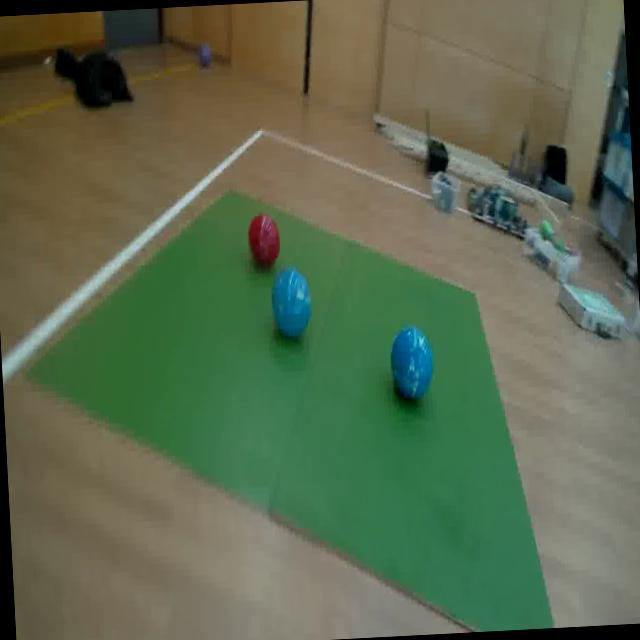blue_ball: (388, 321, 436, 401), (268, 263, 314, 339)
red_ball: (245, 207, 285, 272)
